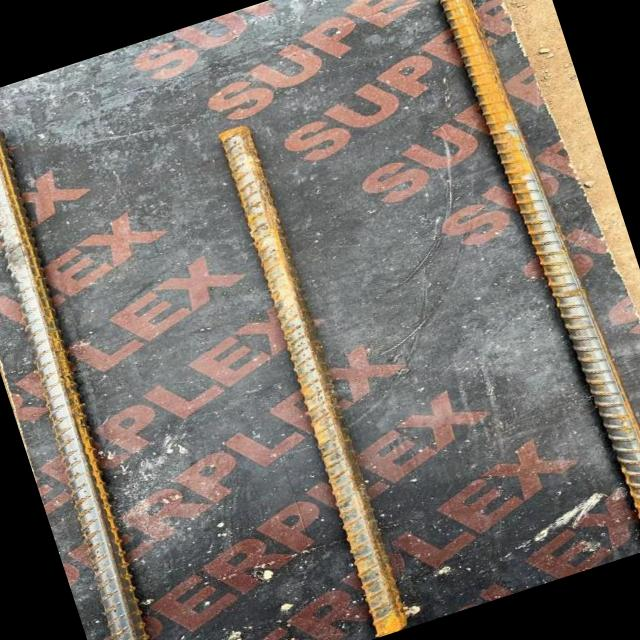ribbed bar: (432, 0, 640, 559), (212, 122, 412, 638), (0, 122, 184, 640)
